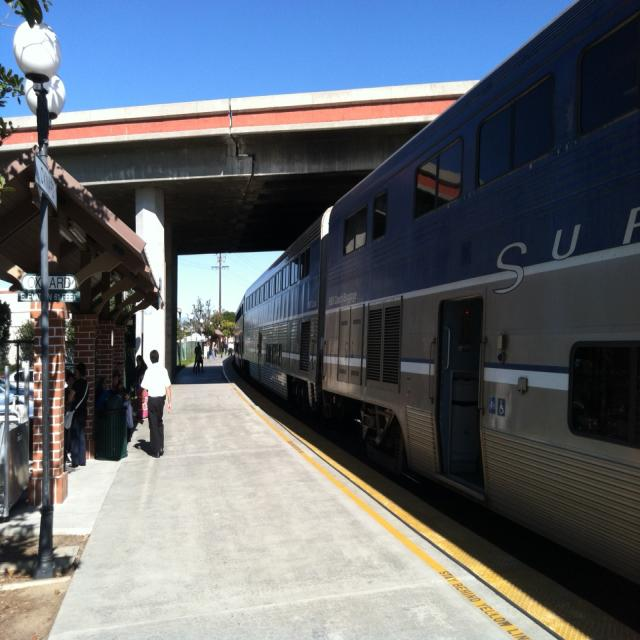body: (141, 349, 173, 459), (64, 362, 90, 469), (65, 368, 76, 464), (132, 354, 148, 419), (111, 361, 126, 410), (94, 374, 112, 413), (203, 339, 234, 359), (125, 389, 137, 434), (195, 343, 205, 374), (193, 342, 201, 374), (132, 437, 150, 451)
